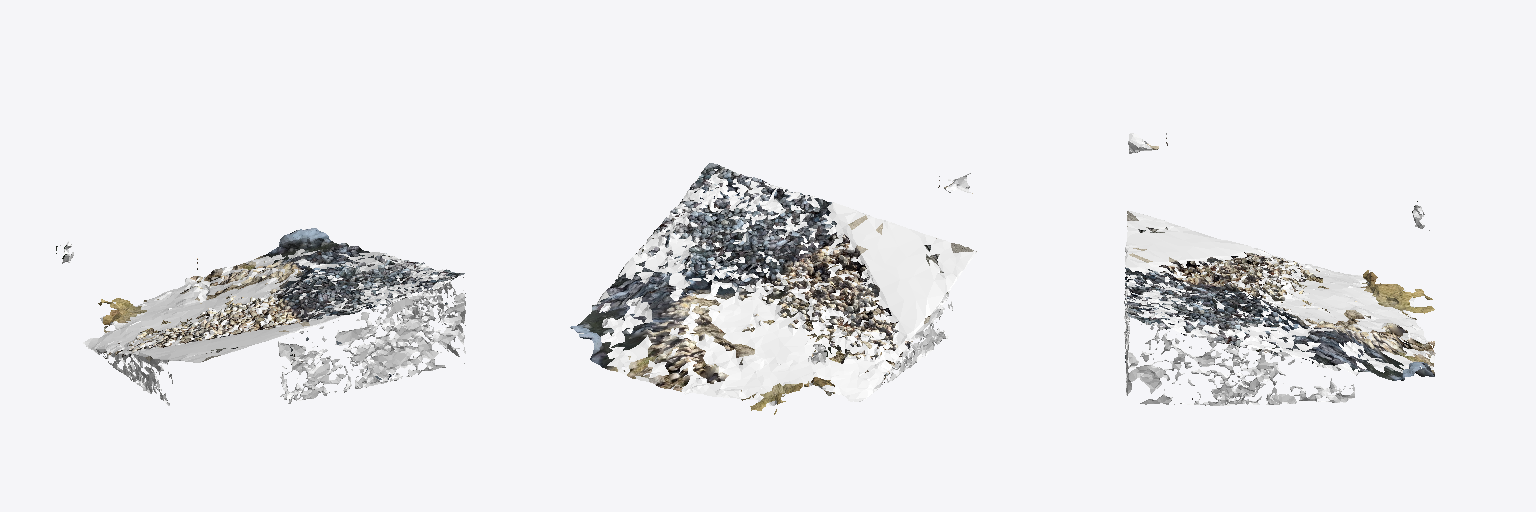
3 renders of one model, left to right at view 1: azimuth 30°, elevation 25°; view 2: azimuth 150°, elevation 25°; view 3: azimuth 270°, elevation 25°, orthographic.
Bounding box in the file's own units: 4.08 × 2.46 × 4.06.
10 materials, 9 textured.